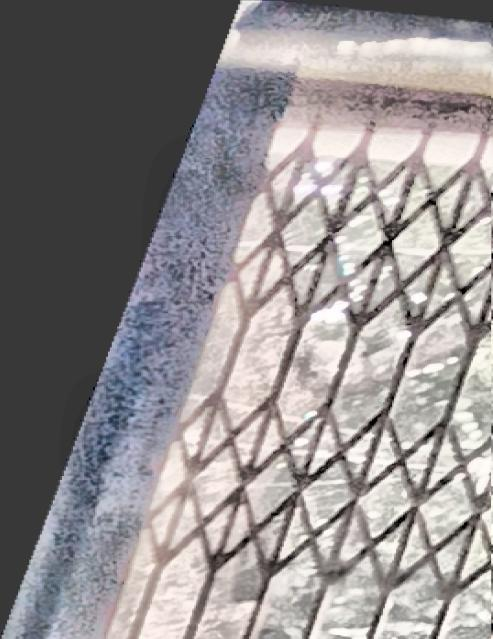wall: (1, 0, 493, 639)
